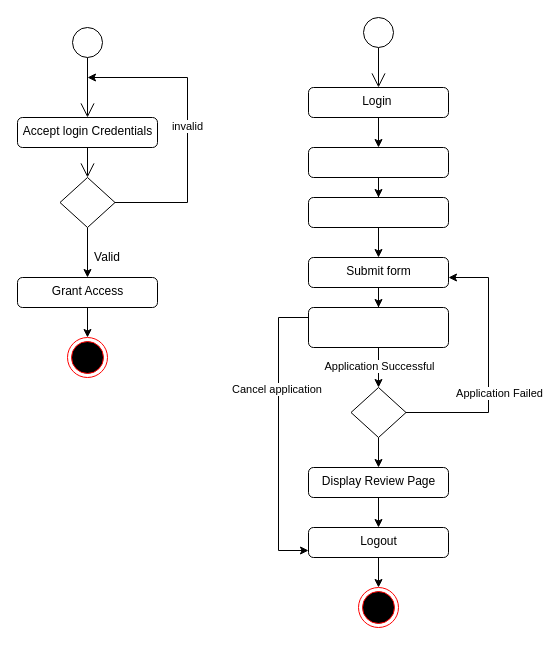
The diagram is 560 pixels wide and 645 high, and some of its shapes have lost their labels. Here are the shapes that lost their labels. From the top down, the centre of each, then its label:
At point (378, 162): "Click on Apply".
At point (378, 212): "Fill Screening form".
At point (378, 327): "Save to Table".
